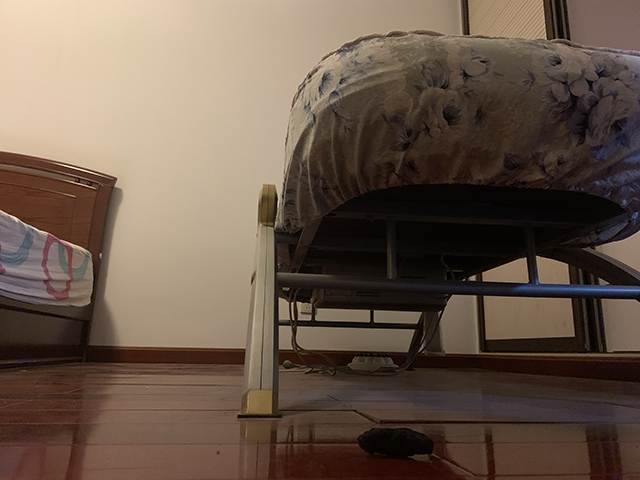bed: (1, 149, 118, 373)
feces: (355, 426, 437, 459)
stool: (237, 27, 640, 420)
wire: (281, 287, 451, 378)
